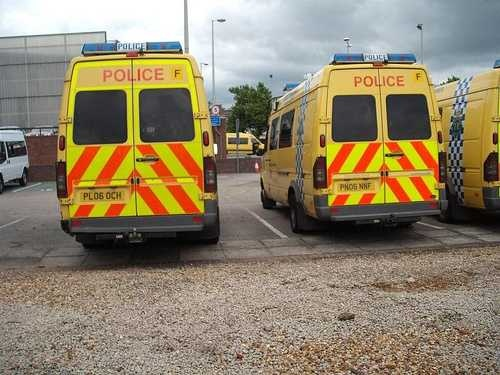Police Van: (42, 35, 237, 265), (265, 54, 450, 232)
